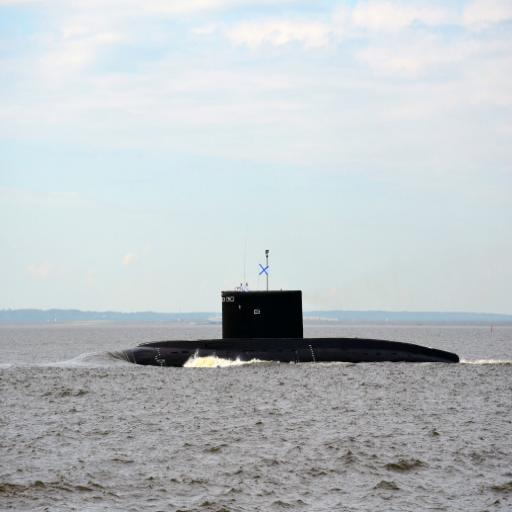submarine: (89, 284, 462, 369)
